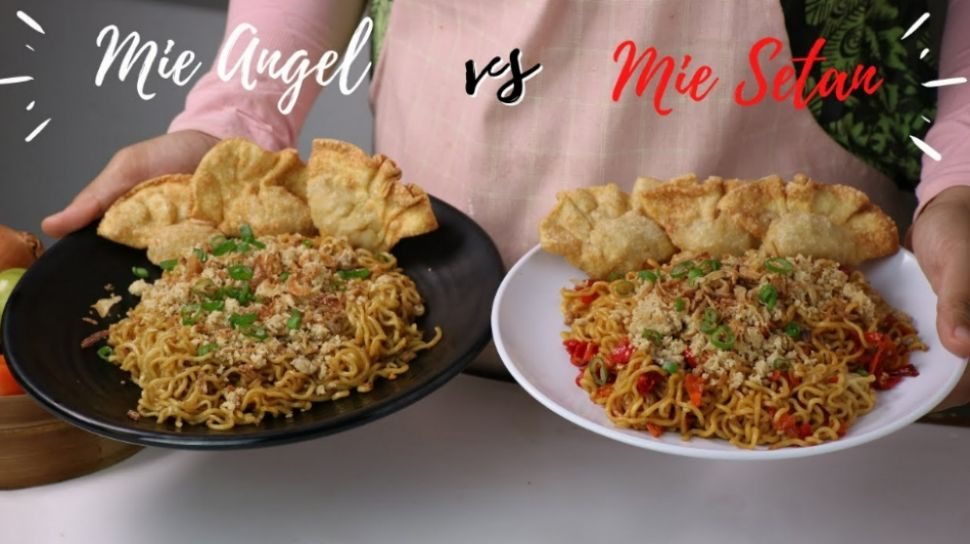Mie: (47, 220, 423, 488), (554, 263, 897, 438)
